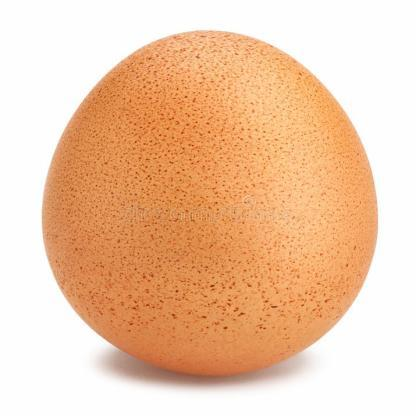egg: (40, 26, 385, 382)
